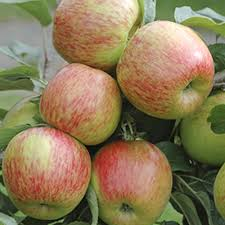apple: (115, 20, 216, 119), (2, 126, 92, 221), (39, 63, 122, 146), (93, 139, 173, 225)
obscured(0)_apple: (52, 1, 141, 64)
